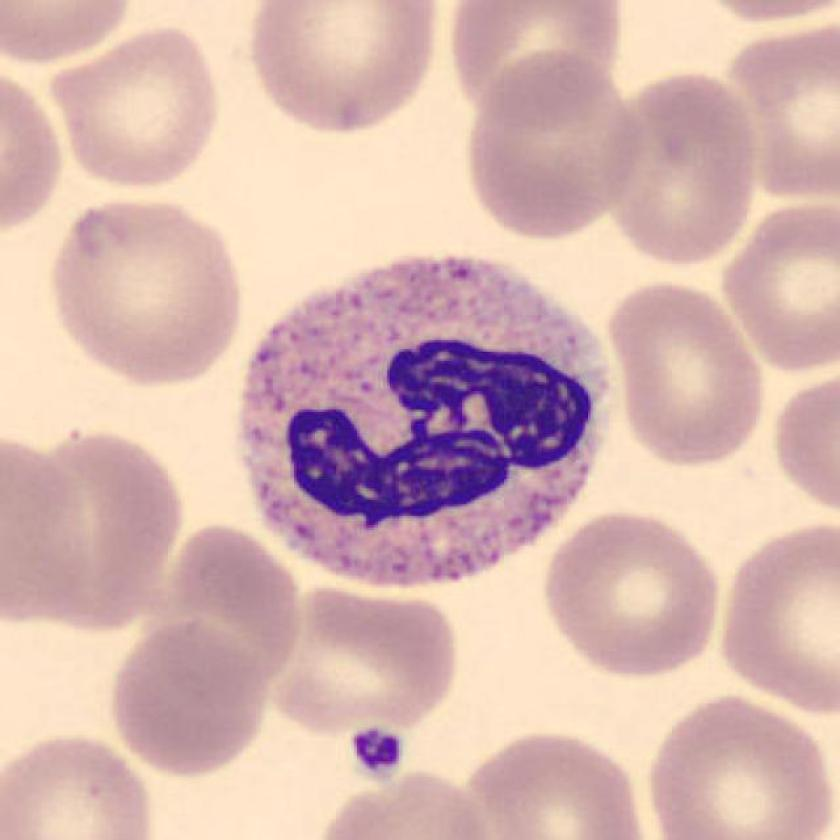neutrophil: (241, 257, 613, 589)
